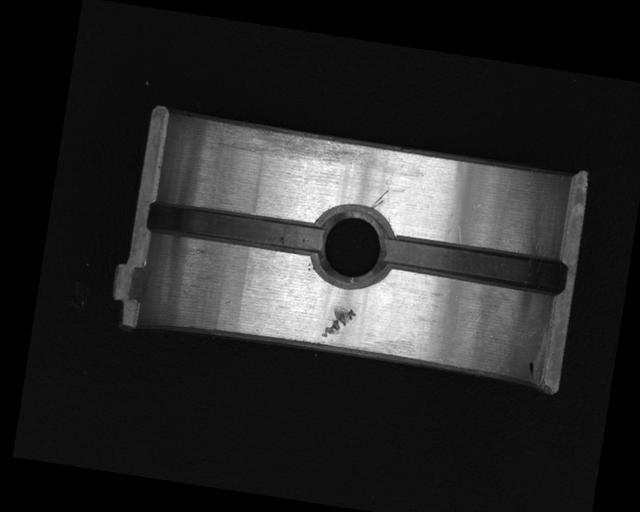blot: (525, 359, 538, 377)
bruise: (319, 300, 358, 342)
gap: (379, 232, 568, 295), (144, 197, 325, 257)
hole: (307, 201, 396, 289)
nick: (370, 187, 388, 212)
scratch: (206, 116, 370, 174)
